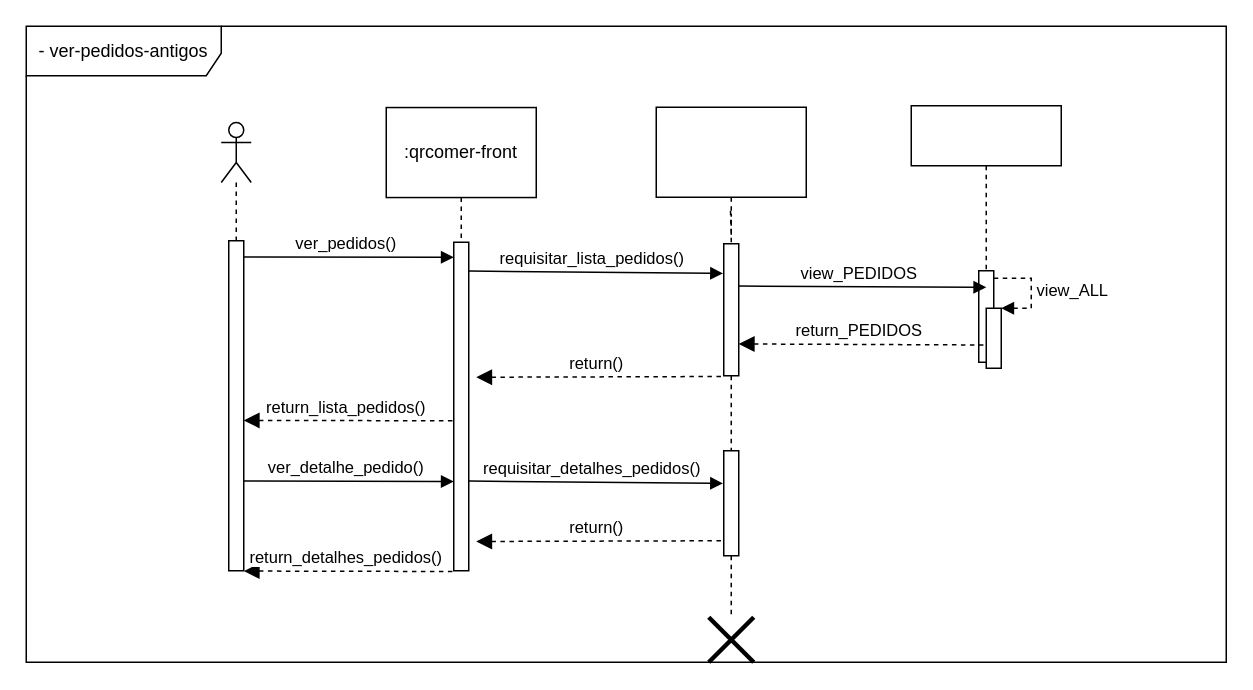
Image size: 1253x690. Some labels were removed from this diagram. Each missing label, with the centre of its shape:
":database" belongs at point (985, 195).
":order-service" belongs at point (730, 158).
